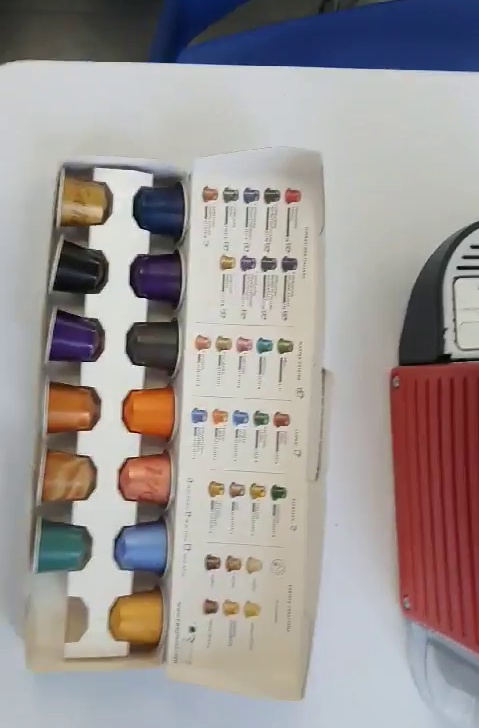capsule_2: (124, 247, 187, 315)
